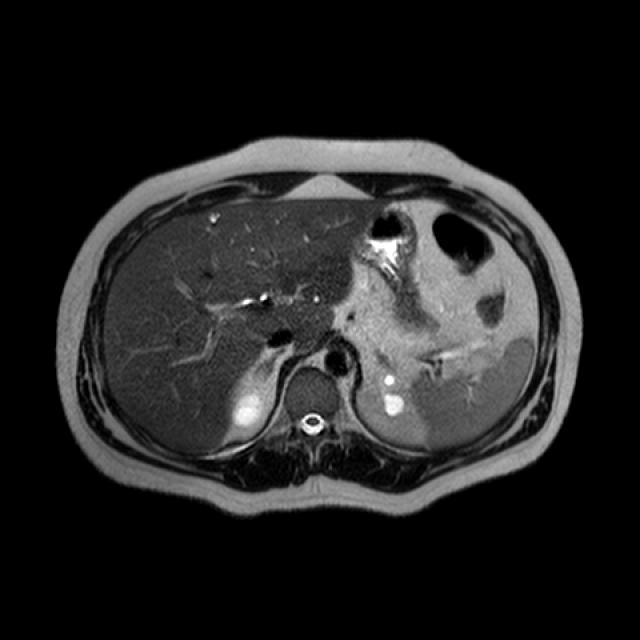sag: (231, 390, 266, 430)
sol: (371, 366, 411, 418)
